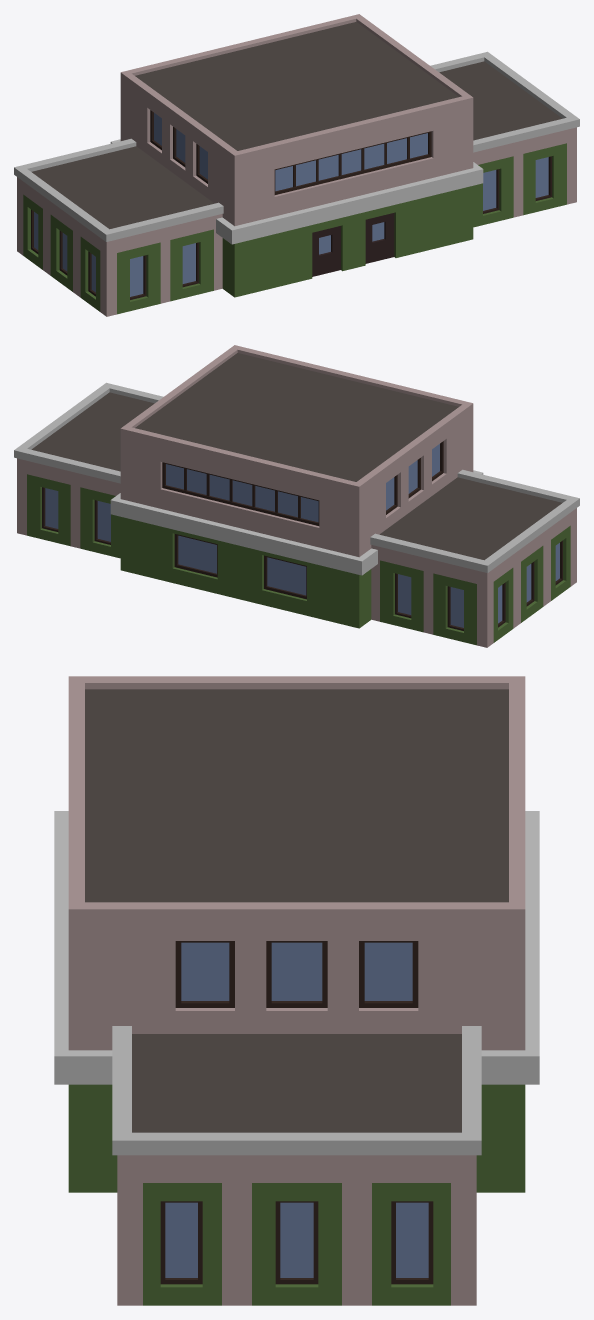
File: FactoryBuilding_10.fbx
3 views of the same model, one above another, from view 1: azimuth 30°, elevation 25°; view 2: azimuth 150°, elevation 25°; view 3: azimuth 270°, elevation 25° (orthographic). The views are drawn at different scales.
Visible parts, largest first — view 1: FactoryBuilding_10; view 2: FactoryBuilding_10; view 3: FactoryBuilding_10.
Boxes of the visible parts, x1,y1,x2,y2 form: FactoryBuilding_10: (14,14,579,316); FactoryBuilding_10: (14,345,579,647); FactoryBuilding_10: (54,676,539,1305).
Bounding box in the file's own units: 38.47 × 11 × 17.07.
